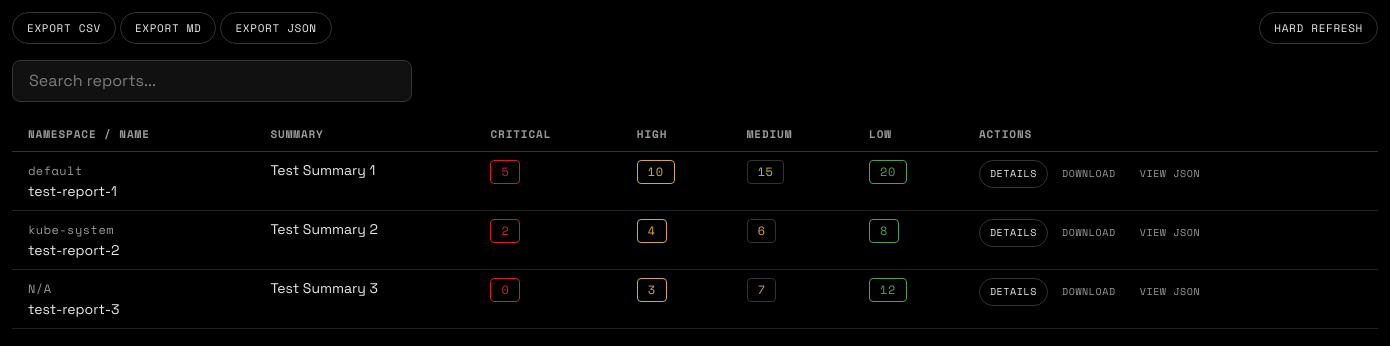
it: ReportTable Component › filters reports based on search term
The image size is (1390, 346).
# Search for a specific report
Type "test-report-1" into the field with placeholder "Search reports..." at (212, 81), box 12,60 -> 412,102
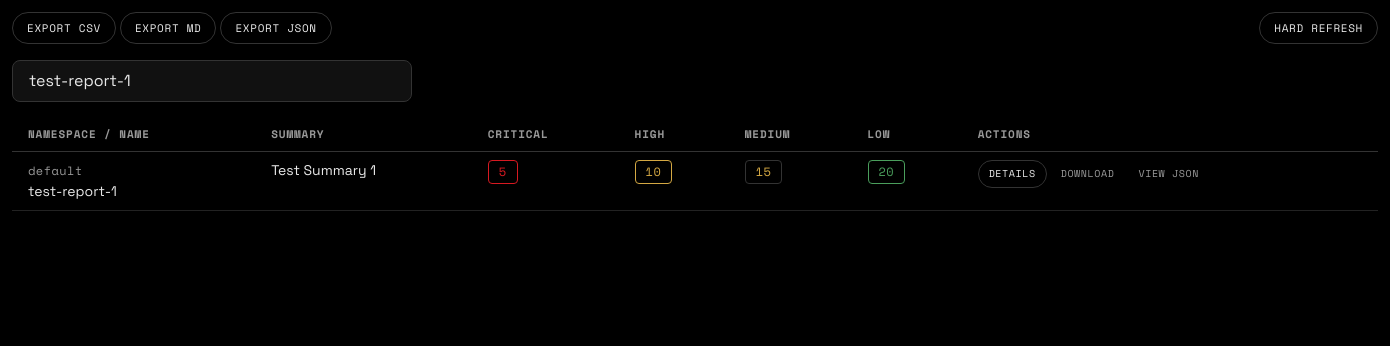
Now the text "test-report-2" is gone
Now the text "test-report-3" is gone
